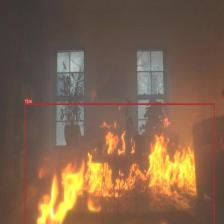fire: (25, 103, 214, 224)
